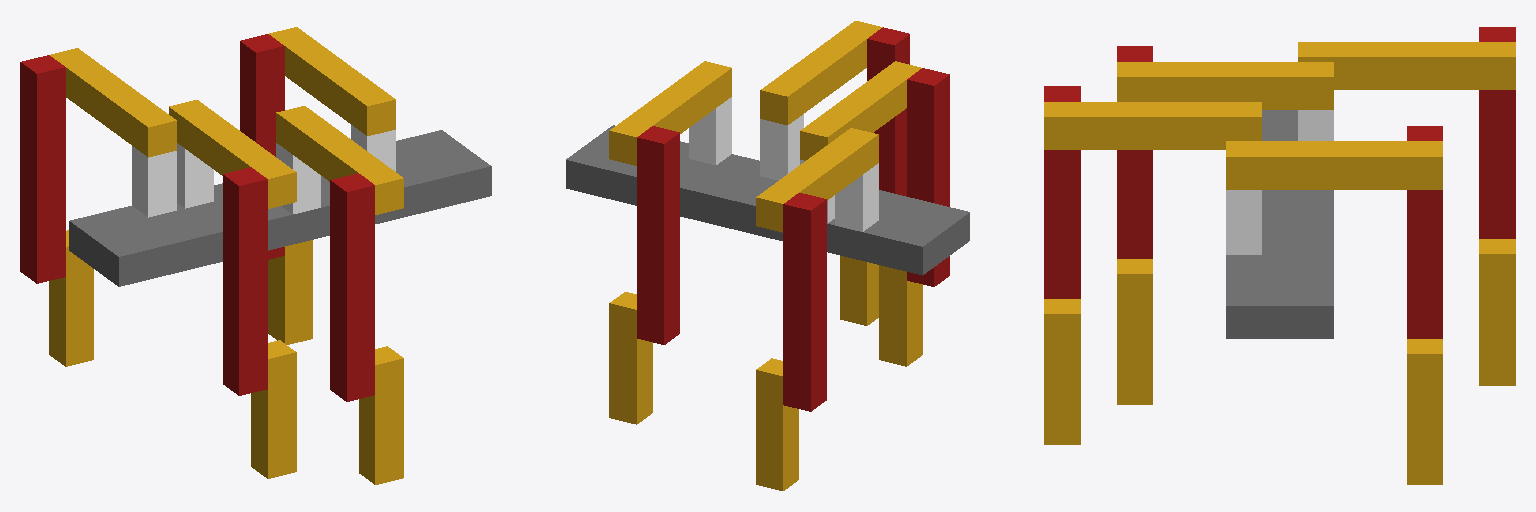
robot.urdf — v0:
<?xml version="1.0" encoding="utf-8"?>
<!-- =================================================================================== -->
<!-- |    This document was autogenerated by xacro from ../robots/v0variants/xacros/v0_4l_9.xacro | -->
<!-- |    EDITING THIS FILE BY HAND IS NOT RECOMMENDED                                 | -->
<!-- =================================================================================== -->
<robot name="v0">
  <material name="grey">
    <color rgba="0.5 0.5 0.5 1"/>
  </material>
  <material name="white">
    <color rgba="1 1 1 1"/>
  </material>
  <material name="yellow">
    <color rgba="0.91 0.7 0.14 1"/>
  </material>
  <material name="red">
    <color rgba="0.71 0.14 0.14 1"/>
  </material>
  <link name="body">
    <visual>
      <geometry>
        <box size="1.3 0.3 0.1"/>
      </geometry>
      <material name="grey"/>
      <origin rpy="0 0 0" xyz="0 0 0.7"/>
    </visual>
    <collision>
      <geometry>
        <box size="1.3 0.3 0.1"/>
      </geometry>
      <origin rpy="0 0 0" xyz="0 0 0.7"/>
    </collision>
    <inertial>
      <mass value="99.84"/>
      <inertia ixx="0.832" ixy="0.0" ixz="0.0" iyy="14.144" iyz="0.0" izz="14.8096"/>
    </inertial>
  </link>
  <link name="l1_segment_1">
    <visual>
      <geometry>
        <box size="0.1 0.1 0.2"/>
      </geometry>
      <material name="white"/>
      <origin rpy="0 0 0" xyz="0 0 0.1"/>
    </visual>
    <collision>
      <geometry>
        <box size="0.1 0.1 0.2"/>
      </geometry>
      <origin rpy="0 0 0" xyz="0 0 0.1"/>
    </collision>
    <inertial>
      <mass value="5.12"/>
      <inertia ixx="0.0213333333333" ixy="0.0" ixz="0.0" iyy="0.0213333333333" iyz="0.0" izz="0.00853333333333"/>
    </inertial>
  </link>
  <joint name="l1_base_to_joint_1" type="fixed">
    <parent link="body"/>
    <child link="l1_segment_1"/>
    <origin rpy="0 0 0" xyz="0.26727236672208654 -0.1 0.75"/>
  </joint>
  <link name="l1_segment_2_HIP">
    <visual>
      <geometry>
        <box size="0.1 0.6 0.1"/>
      </geometry>
      <material name="yellow"/>
      <origin rpy="0 0 0" xyz="0 0.25 0"/>
    </visual>
    <collision>
      <geometry>
        <box size="0.1 0.6 0.1"/>
      </geometry>
      <origin rpy="0 0 0" xyz="0 0.25 0"/>
    </collision>
    <inertial>
      <mass value="15.36"/>
      <inertia ixx="0.4736" ixy="0.0" ixz="0.0" iyy="0.0256" iyz="0.0" izz="0.4736"/>
    </inertial>
  </link>
  <joint name="l1_joint_1_to_2" type="revolute">
    <parent link="l1_segment_1"/>
    <child link="l1_segment_2_HIP"/>
    <origin rpy="0 0 0" xyz="0 0 0.25"/>
    <axis xyz="0.0 0.0 1.0"/>
    <limit effort="2048" lower="-1.2" upper="1.2" velocity="20"/>
  </joint>
  <link name="l1_segment_3_THIGH">
    <visual>
      <geometry>
        <box size="0.1 0.1 0.7"/>
      </geometry>
      <material name="red"/>
      <origin rpy="0 0 0" xyz="0 0 -0.3"/>
    </visual>
    <collision>
      <geometry>
        <box size="0.1 0.1 0.7"/>
      </geometry>
      <origin rpy="0 0 0" xyz="0 0 -0.3"/>
    </collision>
    <inertial>
      <mass value="17.92"/>
      <inertia ixx="0.746666666667" ixy="0.0" ixz="0.0" iyy="0.746666666667" iyz="0.0" izz="0.0298666666667"/>
    </inertial>
  </link>
  <joint name="l1_joint_2_to_3" type="revolute">
    <parent link="l1_segment_2_HIP"/>
    <child link="l1_segment_3_THIGH"/>
    <origin rpy="0 0 0" xyz="-0.1 0.5 0"/>
    <axis xyz="1.0 0.0 0.0"/>
    <limit effort="2048" lower="-0.2" upper="0.75" velocity="20"/>
  </joint>
  <link name="l1_segment_4_FOOT">
    <visual>
      <geometry>
        <box size="0.1 0.1 0.4"/>
      </geometry>
      <material name="yellow"/>
      <origin rpy="0 0 0" xyz="0 0 -0.2"/>
    </visual>
    <collision>
      <geometry>
        <box size="0.1 0.1 0.4"/>
      </geometry>
      <origin rpy="0 0 0" xyz="0 0 -0.2"/>
    </collision>
    <inertial>
      <mass value="10.24"/>
      <inertia ixx="0.145066666667" ixy="0.0" ixz="0.0" iyy="0.145066666667" iyz="0.0" izz="0.0170666666667"/>
    </inertial>
  </link>
  <joint name="l1_joint_3_to_4_FOOT" type="revolute">
    <parent link="l1_segment_3_THIGH"/>
    <child link="l1_segment_4_FOOT"/>
    <origin rpy="0 0 0" xyz="0.1 0 -0.55"/>
    <axis xyz="1.0 0.0 0.0"/>
    <limit effort="2048" lower="-0.2" upper="0.5" velocity="20"/>
  </joint>
  <link name="r2_segment_1">
    <visual>
      <geometry>
        <box size="0.1 0.1 0.2"/>
      </geometry>
      <material name="white"/>
      <origin rpy="0 0 0" xyz="0 0 0.1"/>
    </visual>
    <collision>
      <geometry>
        <box size="0.1 0.1 0.2"/>
      </geometry>
      <origin rpy="0 0 0" xyz="0 0 0.1"/>
    </collision>
    <inertial>
      <mass value="5.12"/>
      <inertia ixx="0.0213333333333" ixy="0.0" ixz="0.0" iyy="0.0213333333333" iyz="0.0" izz="0.00853333333333"/>
    </inertial>
  </link>
  <joint name="r2_base_to_joint_1" type="fixed">
    <parent link="body"/>
    <child link="r2_segment_1"/>
    <origin rpy="0 0 0" xyz="-0.25349491263590584 0.1 0.75"/>
  </joint>
  <link name="r2_segment_2_HIP">
    <visual>
      <geometry>
        <box size="0.1 0.6 0.1"/>
      </geometry>
      <material name="yellow"/>
      <origin rpy="0 0 0" xyz="0 -0.25 0"/>
    </visual>
    <collision>
      <geometry>
        <box size="0.1 0.6 0.1"/>
      </geometry>
      <origin rpy="0 0 0" xyz="0 -0.25 0"/>
    </collision>
    <inertial>
      <mass value="15.36"/>
      <inertia ixx="0.4736" ixy="0.0" ixz="0.0" iyy="0.0256" iyz="0.0" izz="0.4736"/>
    </inertial>
  </link>
  <joint name="r2_joint_1_to_2" type="revolute">
    <parent link="r2_segment_1"/>
    <child link="r2_segment_2_HIP"/>
    <origin rpy="0 0 0" xyz="0 0 0.25"/>
    <axis xyz="0.0 0.0 1.0"/>
    <limit effort="2048" lower="-1.2" upper="1.2" velocity="20"/>
  </joint>
  <link name="r2_segment_3_THIGH">
    <visual>
      <geometry>
        <box size="0.1 0.1 0.7"/>
      </geometry>
      <material name="red"/>
      <origin rpy="0 0 0" xyz="0 0 -0.3"/>
    </visual>
    <collision>
      <geometry>
        <box size="0.1 0.1 0.7"/>
      </geometry>
      <origin rpy="0 0 0" xyz="0 0 -0.3"/>
    </collision>
    <inertial>
      <mass value="17.92"/>
      <inertia ixx="0.746666666667" ixy="0.0" ixz="0.0" iyy="0.746666666667" iyz="0.0" izz="0.0298666666667"/>
    </inertial>
  </link>
  <joint name="r2_joint_2_to_3" type="revolute">
    <parent link="r2_segment_2_HIP"/>
    <child link="r2_segment_3_THIGH"/>
    <origin rpy="0 0 0" xyz="-0.1 -0.5 0"/>
    <axis xyz="1.0 0.0 0.0"/>
    <limit effort="2048" lower="-0.75" upper="0.2" velocity="20"/>
  </joint>
  <link name="r2_segment_4_FOOT">
    <visual>
      <geometry>
        <box size="0.1 0.1 0.4"/>
      </geometry>
      <material name="yellow"/>
      <origin rpy="0 0 0" xyz="0 0 -0.2"/>
    </visual>
    <collision>
      <geometry>
        <box size="0.1 0.1 0.4"/>
      </geometry>
      <origin rpy="0 0 0" xyz="0 0 -0.2"/>
    </collision>
    <inertial>
      <mass value="10.24"/>
      <inertia ixx="0.145066666667" ixy="0.0" ixz="0.0" iyy="0.145066666667" iyz="0.0" izz="0.0170666666667"/>
    </inertial>
  </link>
  <joint name="r2_joint_3_to_4_FOOT" type="revolute">
    <parent link="r2_segment_3_THIGH"/>
    <child link="r2_segment_4_FOOT"/>
    <origin rpy="0 0 0" xyz="0.1 0 -0.55"/>
    <axis xyz="1.0 0.0 0.0"/>
    <limit effort="2048" lower="-0.5" upper="0.2" velocity="20"/>
  </joint>
  <link name="l3_segment_1">
    <visual>
      <geometry>
        <box size="0.1 0.1 0.2"/>
      </geometry>
      <material name="white"/>
      <origin rpy="0 0 0" xyz="0 0 0.1"/>
    </visual>
    <collision>
      <geometry>
        <box size="0.1 0.1 0.2"/>
      </geometry>
      <origin rpy="0 0 0" xyz="0 0 0.1"/>
    </collision>
    <inertial>
      <mass value="5.12"/>
      <inertia ixx="0.0213333333333" ixy="0.0" ixz="0.0" iyy="0.0213333333333" iyz="0.0" izz="0.00853333333333"/>
    </inertial>
  </link>
  <joint name="l3_base_to_joint_1" type="fixed">
    <parent link="body"/>
    <child link="l3_segment_1"/>
    <origin rpy="0 0 0" xyz="-0.3813818303927817 0.1 0.75"/>
  </joint>
  <link name="l3_segment_2_HIP">
    <visual>
      <geometry>
        <box size="0.1 0.6 0.1"/>
      </geometry>
      <material name="yellow"/>
      <origin rpy="0 0 0" xyz="0 0.25 0"/>
    </visual>
    <collision>
      <geometry>
        <box size="0.1 0.6 0.1"/>
      </geometry>
      <origin rpy="0 0 0" xyz="0 0.25 0"/>
    </collision>
    <inertial>
      <mass value="15.36"/>
      <inertia ixx="0.4736" ixy="0.0" ixz="0.0" iyy="0.0256" iyz="0.0" izz="0.4736"/>
    </inertial>
  </link>
  <joint name="l3_joint_1_to_2" type="revolute">
    <parent link="l3_segment_1"/>
    <child link="l3_segment_2_HIP"/>
    <origin rpy="0 0 0" xyz="0 0 0.25"/>
    <axis xyz="0.0 0.0 1.0"/>
    <limit effort="2048" lower="-1.2" upper="1.2" velocity="20"/>
  </joint>
  <link name="l3_segment_3_THIGH">
    <visual>
      <geometry>
        <box size="0.1 0.1 0.7"/>
      </geometry>
      <material name="red"/>
      <origin rpy="0 0 0" xyz="0 0 -0.3"/>
    </visual>
    <collision>
      <geometry>
        <box size="0.1 0.1 0.7"/>
      </geometry>
      <origin rpy="0 0 0" xyz="0 0 -0.3"/>
    </collision>
    <inertial>
      <mass value="17.92"/>
      <inertia ixx="0.746666666667" ixy="0.0" ixz="0.0" iyy="0.746666666667" iyz="0.0" izz="0.0298666666667"/>
    </inertial>
  </link>
  <joint name="l3_joint_2_to_3" type="revolute">
    <parent link="l3_segment_2_HIP"/>
    <child link="l3_segment_3_THIGH"/>
    <origin rpy="0 0 0" xyz="-0.1 0.5 0"/>
    <axis xyz="1.0 0.0 0.0"/>
    <limit effort="2048" lower="-0.2" upper="0.75" velocity="20"/>
  </joint>
  <link name="l3_segment_4_FOOT">
    <visual>
      <geometry>
        <box size="0.1 0.1 0.4"/>
      </geometry>
      <material name="yellow"/>
      <origin rpy="0 0 0" xyz="0 0 -0.2"/>
    </visual>
    <collision>
      <geometry>
        <box size="0.1 0.1 0.4"/>
      </geometry>
      <origin rpy="0 0 0" xyz="0 0 -0.2"/>
    </collision>
    <inertial>
      <mass value="10.24"/>
      <inertia ixx="0.145066666667" ixy="0.0" ixz="0.0" iyy="0.145066666667" iyz="0.0" izz="0.0170666666667"/>
    </inertial>
  </link>
  <joint name="l3_joint_3_to_4_FOOT" type="revolute">
    <parent link="l3_segment_3_THIGH"/>
    <child link="l3_segment_4_FOOT"/>
    <origin rpy="0 0 0" xyz="0.1 0 -0.55"/>
    <axis xyz="1.0 0.0 0.0"/>
    <limit effort="2048" lower="-0.2" upper="0.5" velocity="20"/>
  </joint>
  <link name="r4_segment_1">
    <visual>
      <geometry>
        <box size="0.1 0.1 0.2"/>
      </geometry>
      <material name="white"/>
      <origin rpy="0 0 0" xyz="0 0 0.1"/>
    </visual>
    <collision>
      <geometry>
        <box size="0.1 0.1 0.2"/>
      </geometry>
      <origin rpy="0 0 0" xyz="0 0 0.1"/>
    </collision>
    <inertial>
      <mass value="5.12"/>
      <inertia ixx="0.0213333333333" ixy="0.0" ixz="0.0" iyy="0.0213333333333" iyz="0.0" izz="0.00853333333333"/>
    </inertial>
  </link>
  <joint name="r4_base_to_joint_1" type="fixed">
    <parent link="body"/>
    <child link="r4_segment_1"/>
    <origin rpy="0 0 0" xyz="0.0065405450943926136 -0.1 0.75"/>
  </joint>
  <link name="r4_segment_2_HIP">
    <visual>
      <geometry>
        <box size="0.1 0.6 0.1"/>
      </geometry>
      <material name="yellow"/>
      <origin rpy="0 0 0" xyz="0 -0.25 0"/>
    </visual>
    <collision>
      <geometry>
        <box size="0.1 0.6 0.1"/>
      </geometry>
      <origin rpy="0 0 0" xyz="0 -0.25 0"/>
    </collision>
    <inertial>
      <mass value="15.36"/>
      <inertia ixx="0.4736" ixy="0.0" ixz="0.0" iyy="0.0256" iyz="0.0" izz="0.4736"/>
    </inertial>
  </link>
  <joint name="r4_joint_1_to_2" type="revolute">
    <parent link="r4_segment_1"/>
    <child link="r4_segment_2_HIP"/>
    <origin rpy="0 0 0" xyz="0 0 0.25"/>
    <axis xyz="0.0 0.0 1.0"/>
    <limit effort="2048" lower="-1.2" upper="1.2" velocity="20"/>
  </joint>
  <link name="r4_segment_3_THIGH">
    <visual>
      <geometry>
        <box size="0.1 0.1 0.7"/>
      </geometry>
      <material name="red"/>
      <origin rpy="0 0 0" xyz="0 0 -0.3"/>
    </visual>
    <collision>
      <geometry>
        <box size="0.1 0.1 0.7"/>
      </geometry>
      <origin rpy="0 0 0" xyz="0 0 -0.3"/>
    </collision>
    <inertial>
      <mass value="17.92"/>
      <inertia ixx="0.746666666667" ixy="0.0" ixz="0.0" iyy="0.746666666667" iyz="0.0" izz="0.0298666666667"/>
    </inertial>
  </link>
  <joint name="r4_joint_2_to_3" type="revolute">
    <parent link="r4_segment_2_HIP"/>
    <child link="r4_segment_3_THIGH"/>
    <origin rpy="0 0 0" xyz="-0.1 -0.5 0"/>
    <axis xyz="1.0 0.0 0.0"/>
    <limit effort="2048" lower="-0.75" upper="0.2" velocity="20"/>
  </joint>
  <link name="r4_segment_4_FOOT">
    <visual>
      <geometry>
        <box size="0.1 0.1 0.4"/>
      </geometry>
      <material name="yellow"/>
      <origin rpy="0 0 0" xyz="0 0 -0.2"/>
    </visual>
    <collision>
      <geometry>
        <box size="0.1 0.1 0.4"/>
      </geometry>
      <origin rpy="0 0 0" xyz="0 0 -0.2"/>
    </collision>
    <inertial>
      <mass value="10.24"/>
      <inertia ixx="0.145066666667" ixy="0.0" ixz="0.0" iyy="0.145066666667" iyz="0.0" izz="0.0170666666667"/>
    </inertial>
  </link>
  <joint name="r4_joint_3_to_4_FOOT" type="revolute">
    <parent link="r4_segment_3_THIGH"/>
    <child link="r4_segment_4_FOOT"/>
    <origin rpy="0 0 0" xyz="0.1 0 -0.55"/>
    <axis xyz="1.0 0.0 0.0"/>
    <limit effort="2048" lower="-0.5" upper="0.2" velocity="20"/>
  </joint>
</robot>

--- What the picture shows (computed from the rendered views, not written in the file) ---
3 views of the same robot in one strip: view 1: azimuth 30°, elevation 25°; view 2: azimuth 150°, elevation 25°; view 3: azimuth 270°, elevation 25° (orthographic).
Robot: v0 — 17 links, 16 joints (12 revolute, 4 fixed); root link body; default pose: all joints at 0.
Visible links, largest first — view 1: body, l3_segment_3_THIGH, r2_segment_3_THIGH, r4_segment_3_THIGH, l3_segment_2_HIP, l1_segment_2_HIP, r4_segment_2_HIP, r2_segment_2_HIP, r2_segment_4_FOOT, r4_segment_4_FOOT, l1_segment_3_THIGH, l3_segment_4_FOOT (+5 smaller); view 2: body, l3_segment_3_THIGH, l1_segment_3_THIGH, r2_segment_3_THIGH, r4_segment_2_HIP, l1_segment_2_HIP, l3_segment_2_HIP, l1_segment_4_FOOT, r2_segment_2_HIP, l3_segment_4_FOOT, r2_segment_4_FOOT, r4_segment_3_THIGH (+4 smaller); view 3: body, l1_segment_2_HIP, r4_segment_2_HIP, l3_segment_2_HIP, r2_segment_2_HIP, r4_segment_3_THIGH, l3_segment_3_THIGH, l1_segment_3_THIGH, l3_segment_4_FOOT, r4_segment_4_FOOT, l1_segment_4_FOOT, r2_segment_4_FOOT (+3 smaller).
Boxes of the visible links, bbox=[...] form: body: bbox=[69, 130, 491, 286]; l3_segment_3_THIGH: bbox=[20, 55, 65, 283]; r2_segment_3_THIGH: bbox=[223, 167, 267, 395]; r4_segment_3_THIGH: bbox=[330, 173, 374, 401]; l3_segment_2_HIP: bbox=[50, 48, 176, 157]; l1_segment_2_HIP: bbox=[269, 27, 395, 135]; r4_segment_2_HIP: bbox=[276, 106, 403, 214]; r2_segment_2_HIP: bbox=[169, 100, 296, 208]; r2_segment_4_FOOT: bbox=[251, 340, 296, 478]; r4_segment_4_FOOT: bbox=[359, 346, 403, 484]; l1_segment_3_THIGH: bbox=[240, 34, 284, 259]; l3_segment_4_FOOT: bbox=[49, 230, 93, 366]; body: bbox=[566, 125, 969, 275]; l3_segment_3_THIGH: bbox=[783, 193, 826, 411]; l1_segment_3_THIGH: bbox=[637, 126, 679, 344]; r2_segment_3_THIGH: bbox=[907, 68, 949, 286]; r4_segment_2_HIP: bbox=[760, 21, 882, 124]; l1_segment_2_HIP: bbox=[609, 61, 731, 165]; l3_segment_2_HIP: bbox=[756, 128, 878, 232]; l1_segment_4_FOOT: bbox=[609, 292, 652, 424]; r2_segment_2_HIP: bbox=[800, 61, 921, 160]; l3_segment_4_FOOT: bbox=[756, 358, 798, 490]; r2_segment_4_FOOT: bbox=[879, 265, 922, 366]; r4_segment_3_THIGH: bbox=[867, 27, 909, 196]; body: bbox=[1226, 110, 1333, 338]; l1_segment_2_HIP: bbox=[1226, 141, 1442, 189]; r4_segment_2_HIP: bbox=[1044, 102, 1261, 149]; l3_segment_2_HIP: bbox=[1298, 42, 1515, 89]; r2_segment_2_HIP: bbox=[1117, 62, 1333, 109]; r4_segment_3_THIGH: bbox=[1044, 86, 1080, 298]; l3_segment_3_THIGH: bbox=[1479, 27, 1515, 238]; l1_segment_3_THIGH: bbox=[1407, 126, 1442, 338]; l3_segment_4_FOOT: bbox=[1479, 239, 1515, 385]; r4_segment_4_FOOT: bbox=[1044, 299, 1080, 444]; l1_segment_4_FOOT: bbox=[1407, 339, 1442, 484]; r2_segment_4_FOOT: bbox=[1117, 259, 1152, 404].
Size in the robot's own frame: 1.3 by 1.3 by 1 metres.
Geometry: primitives only (box / cylinder / sphere), no mesh files.